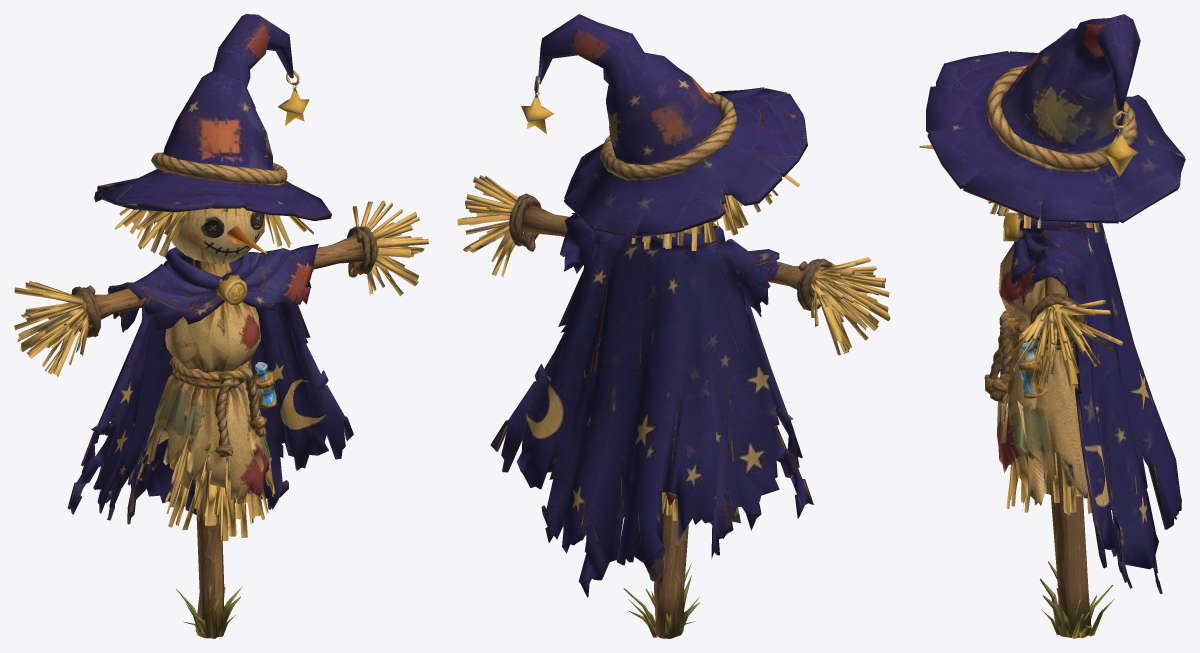
Rendered from scarecrow.glb.
3 renders of one model, left to right at view 1: azimuth 30°, elevation 25°; view 2: azimuth 150°, elevation 25°; view 3: azimuth 270°, elevation 25°, orthographic. The views are drawn at different scales.
Size of the model in its own units: 0.6775 by 0.9531 by 0.3543.
1 material, 1 textured.
